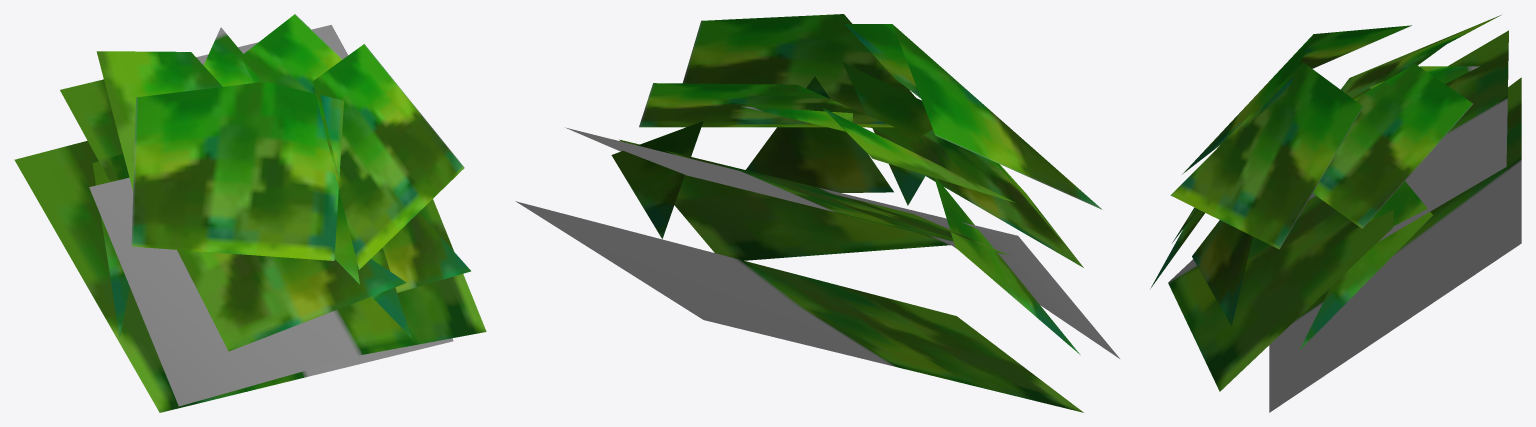
File: fg_bushA_2.dae
The picture shows the model from 3 angles, left to right: view 1: azimuth 30°, elevation 25°; view 2: azimuth 150°, elevation 25°; view 3: azimuth 270°, elevation 25°; orthographic projection. The views are drawn at different scales.
Visible parts, largest first — view 1: fg_bushA_2; view 2: fg_bushA_2; view 3: fg_bushA_2.
Part boxes in pixels (left/top/right/bottom): fg_bushA_2: left=14, top=14, right=486, bottom=412; fg_bushA_2: left=515, top=14, right=1119, bottom=412; fg_bushA_2: left=1150, top=15, right=1521, bottom=412.
Bounding box in the file's own units: 42.31 × 33.77 × 38.68.
1 material, 1 textured.
